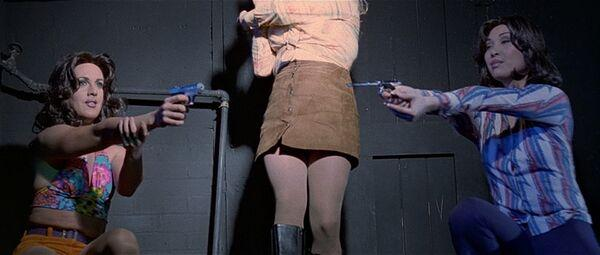Gun: (347, 81, 403, 99), (168, 83, 205, 106)
